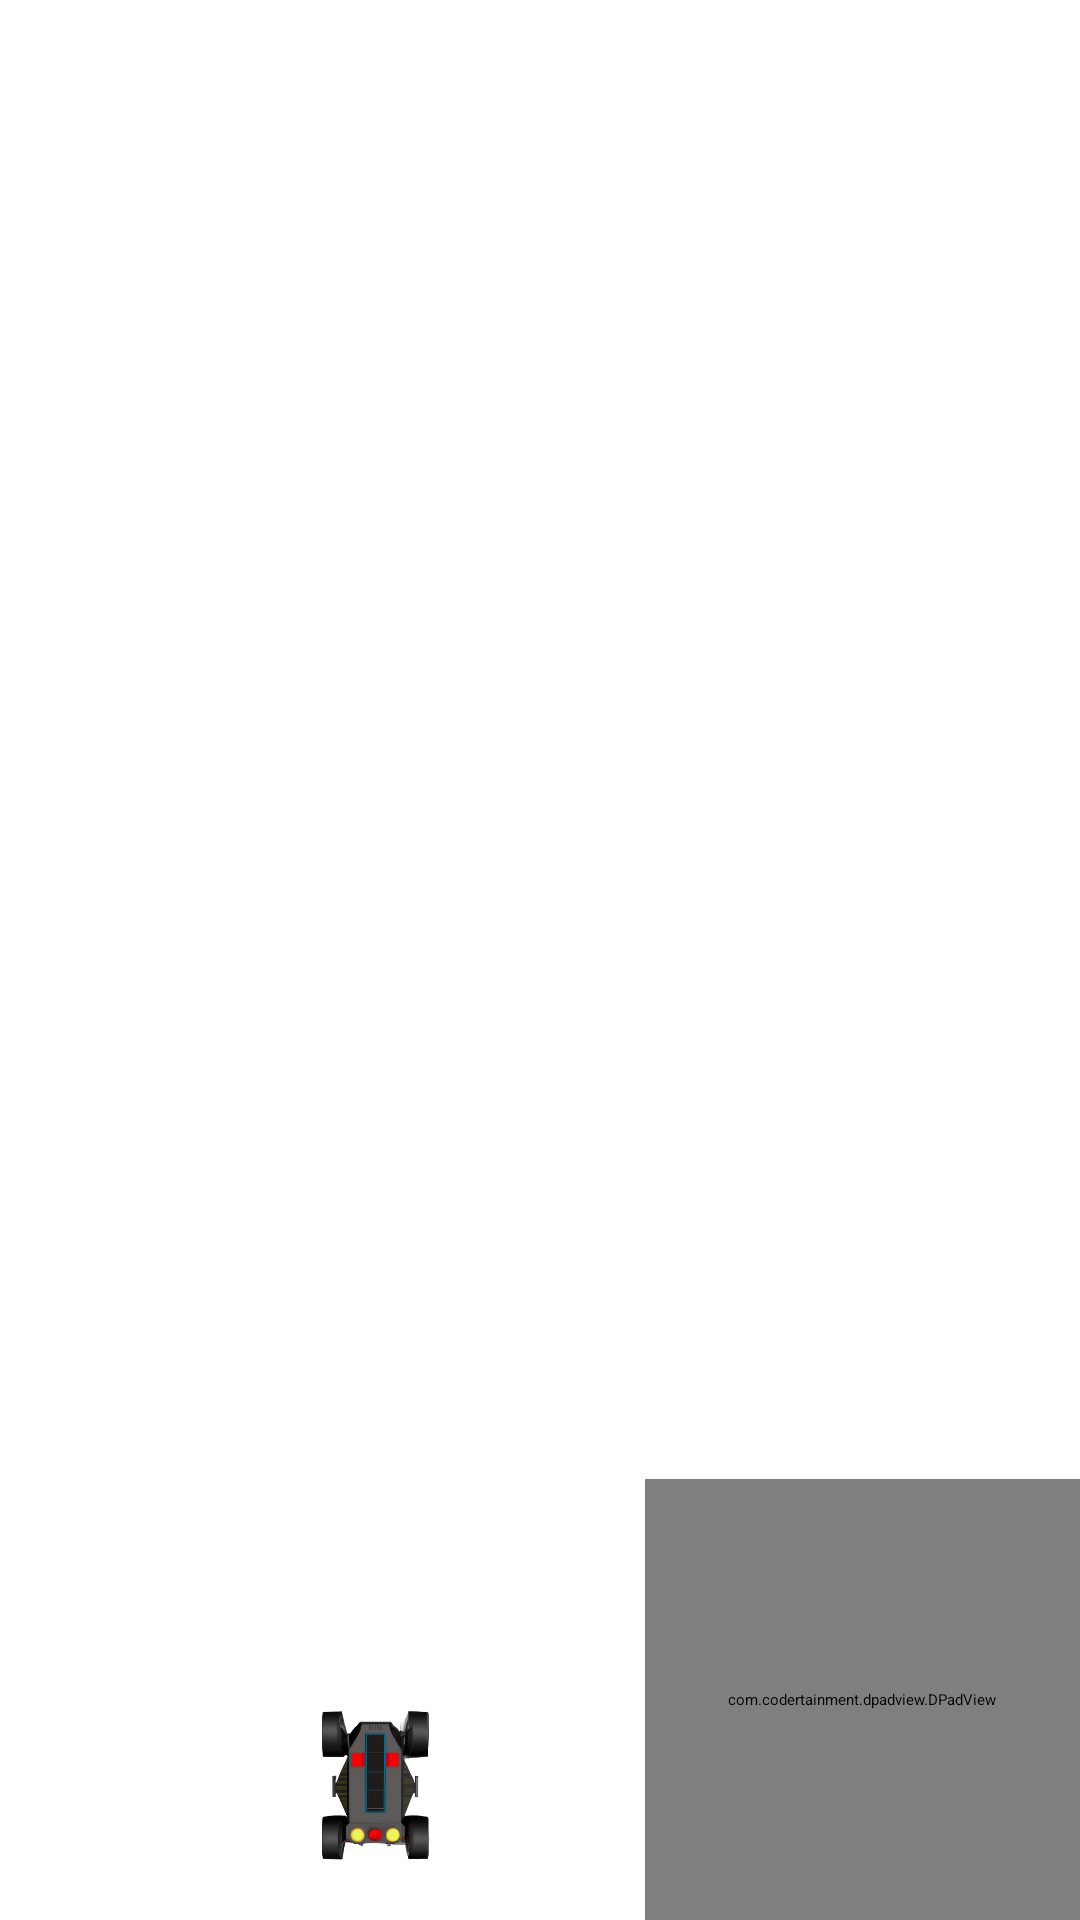

Icon click points for this 1080x1920 phone screenshot, format [x,y]:
robot car: [375,1785]
